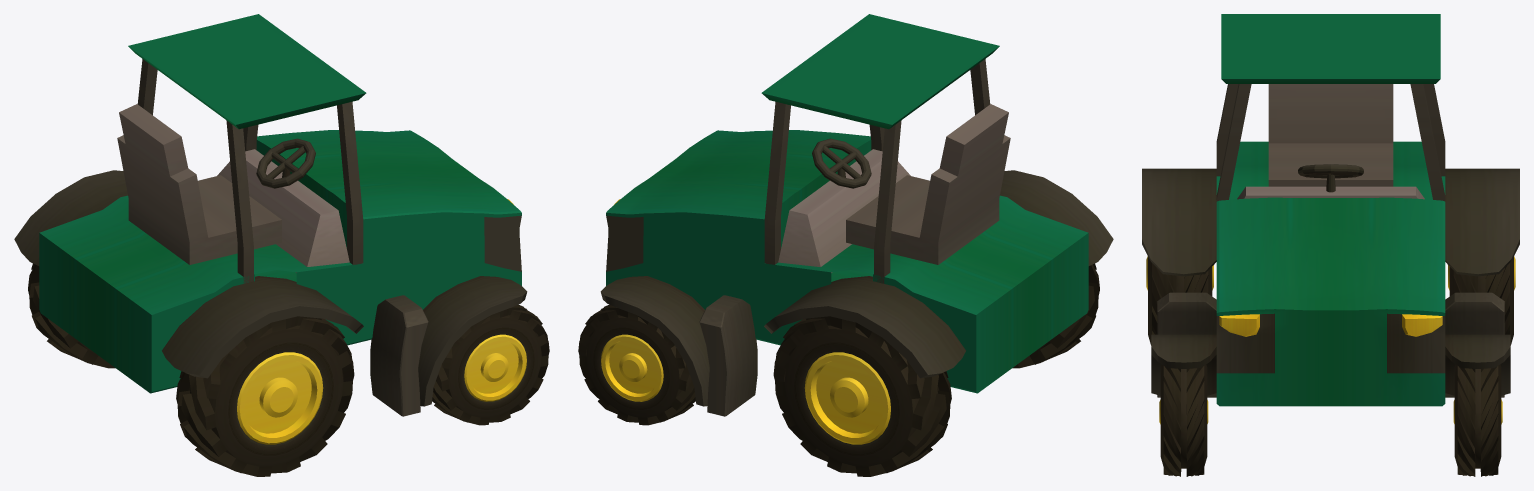
File: Tractor.fbx
3 views of the same model, side by side, from view 1: azimuth 30°, elevation 25°; view 2: azimuth 150°, elevation 25°; view 3: azimuth 270°, elevation 25° (orthographic).
Parts seen in each view (by area): view 1: Tractor; view 2: Tractor; view 3: Tractor.
Part boxes in pixels (bbox=[...]): Tractor: bbox=[14, 14, 549, 476]; Tractor: bbox=[578, 14, 1113, 476]; Tractor: bbox=[1142, 14, 1519, 476].
Size of the model in its own units: 20.92 by 17.62 by 17.72.
